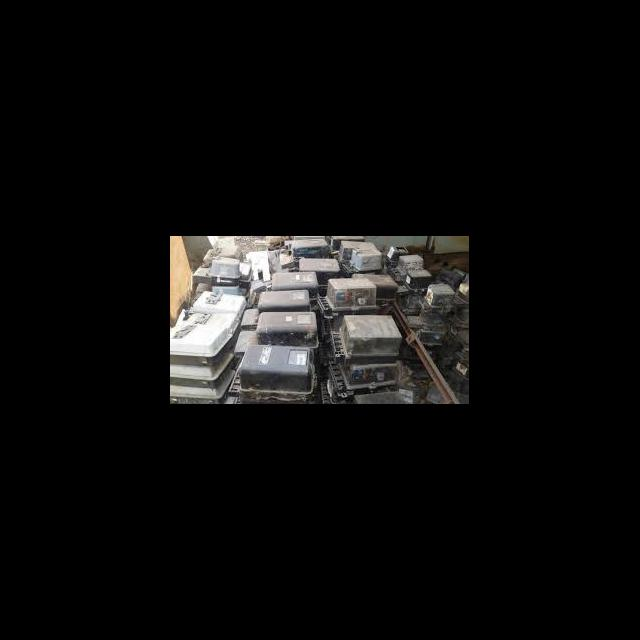metal: (228, 339, 320, 397), (234, 308, 326, 357), (336, 307, 404, 356), (242, 286, 322, 323), (170, 316, 230, 365), (322, 274, 388, 315), (336, 355, 404, 393), (170, 349, 233, 389), (256, 269, 324, 297), (292, 248, 346, 281), (392, 250, 433, 279), (348, 245, 389, 274), (422, 282, 460, 311), (401, 266, 442, 291), (208, 256, 246, 282)
